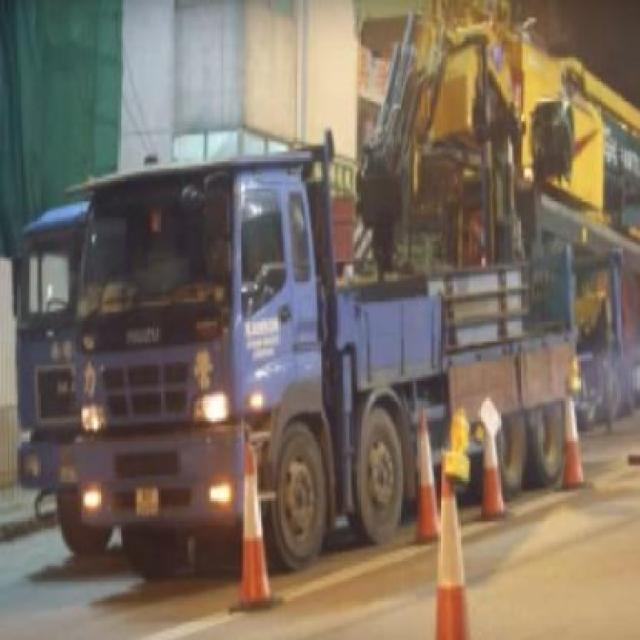Mobile Crane: (70, 0, 638, 582)
